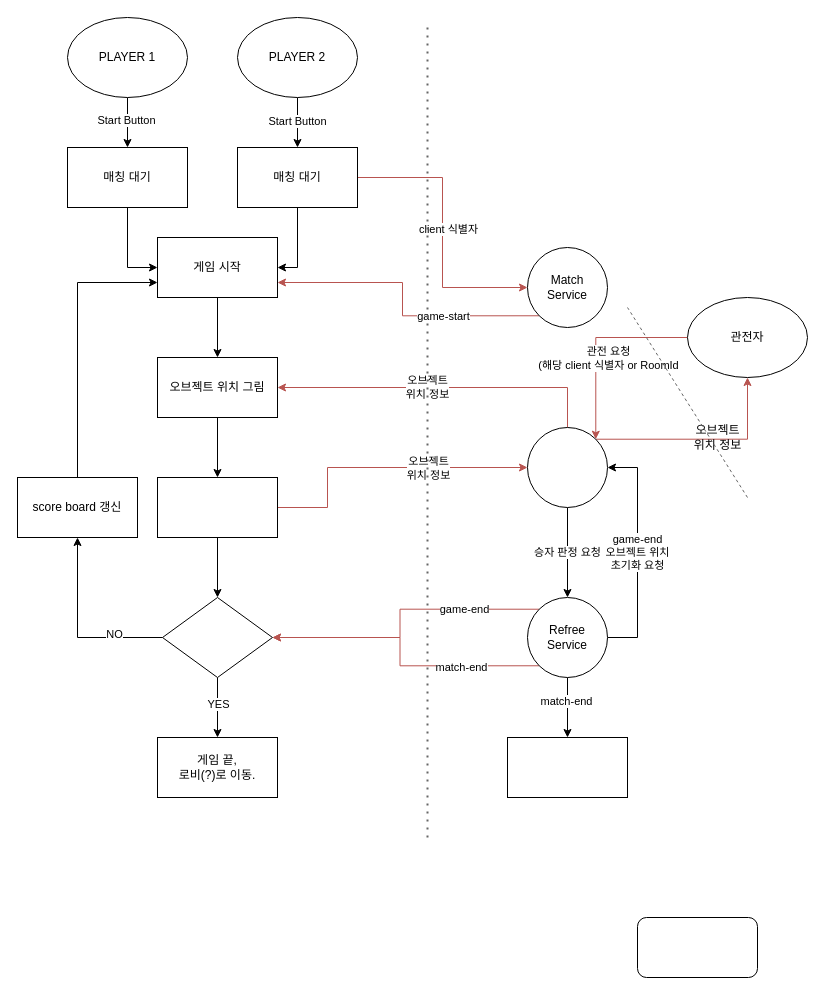
This 825x995 diagram has some shape labels left out. Each missing label, with the box of its shape:
10 판 이긴사람 있음? (match-end?): (162, 596, 272, 678)
GameRoom Service: (526, 426, 608, 508)
playerPaddle 조작(상,하) 이벤트 발생: (156, 476, 278, 538)
레이팅, 매치 히스토리 업데이트: (506, 736, 628, 798)
미해결 문제 1. 커스텀 옵션 2. 공 속도 변화: (636, 916, 758, 978)
